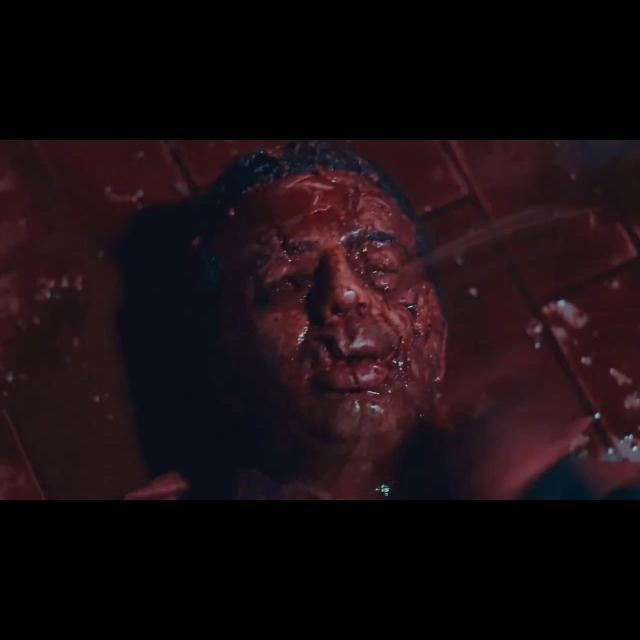blood: (210, 141, 446, 499)
